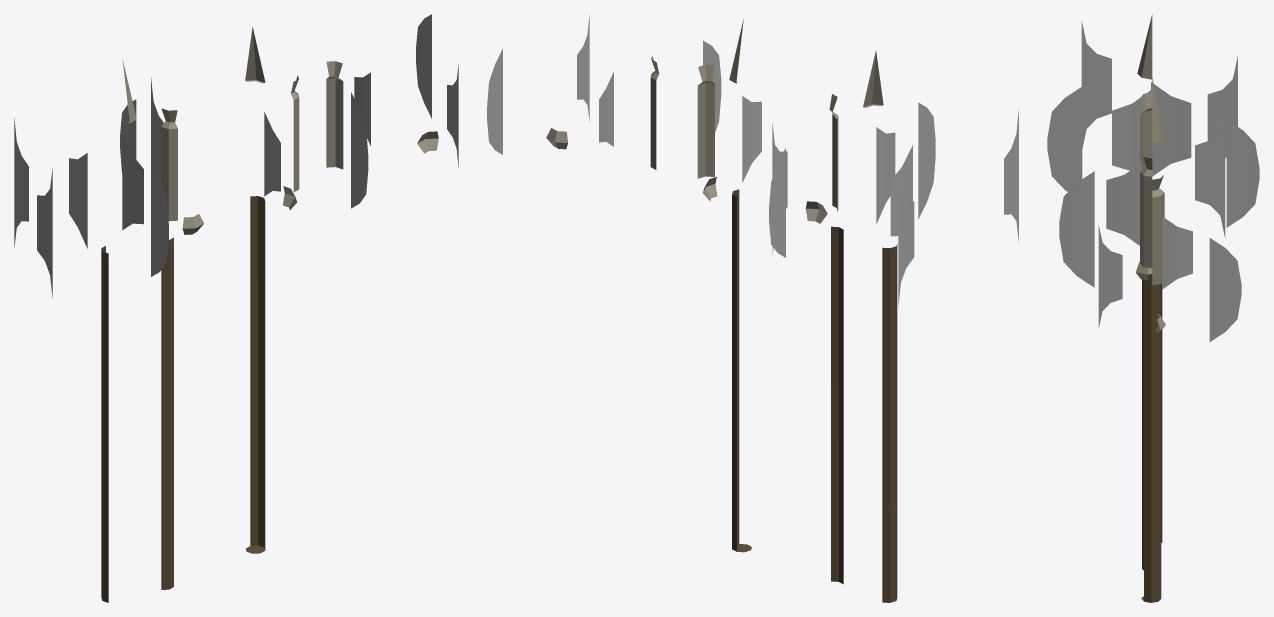
Rendered from AxeBattle.fbx.
The picture shows the model from 3 angles, left to right: view 1: azimuth 30°, elevation 25°; view 2: azimuth 150°, elevation 25°; view 3: azimuth 270°, elevation 25°; orthographic projection. The views are drawn at different scales.
Parts seen in each view (by area): view 1: Cylinder.007; view 2: Cylinder.007; view 3: Cylinder.007.
Part boxes in pixels (left/top/right/bottom): Cylinder.007: left=14, top=14, right=458, bottom=602; Cylinder.007: left=487, top=15, right=1018, bottom=602; Cylinder.007: left=1047, top=14, right=1259, bottom=602.
Bounding box in the file's own units: 101 × 117 × 42.04.
